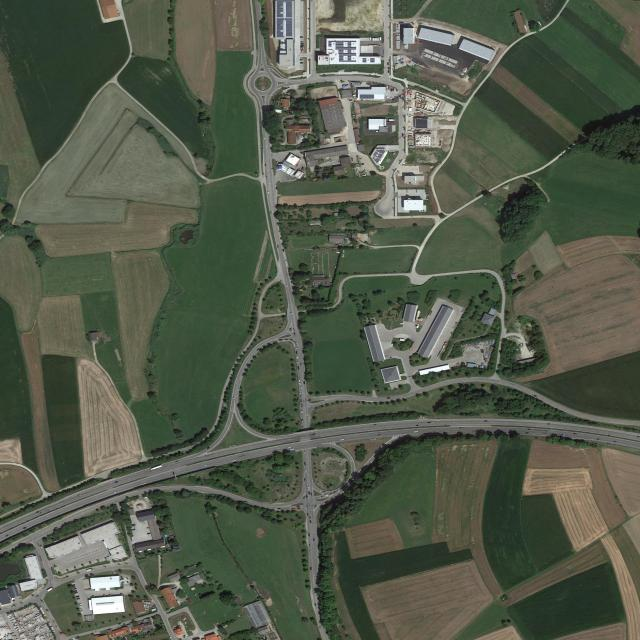large-vehicle: (150, 465, 162, 471), (39, 607, 46, 617), (442, 342, 447, 348), (50, 626, 55, 632), (47, 587, 54, 591), (437, 352, 442, 357), (144, 601, 151, 604), (389, 119, 395, 121)
small-vehicle: (40, 545, 43, 550), (5, 534, 10, 537), (333, 491, 337, 494), (324, 494, 328, 497), (310, 567, 313, 571), (147, 532, 151, 535), (23, 527, 27, 530), (113, 491, 117, 494), (114, 481, 118, 484), (50, 579, 53, 583), (71, 584, 75, 587), (534, 395, 538, 398), (290, 339, 294, 342), (262, 172, 265, 176), (231, 460, 236, 462), (528, 429, 533, 431), (319, 627, 322, 630), (78, 494, 81, 497), (36, 595, 39, 598), (149, 604, 152, 607), (295, 341, 298, 344), (257, 348, 260, 351), (295, 347, 298, 350), (296, 356, 299, 359), (282, 249, 285, 252), (262, 121, 265, 124), (263, 138, 266, 141), (296, 164, 299, 167), (299, 160, 302, 163), (270, 212, 273, 215), (320, 496, 324, 498), (308, 533, 310, 537), (233, 396, 235, 400), (300, 399, 302, 403), (301, 411, 303, 415), (341, 439, 345, 441), (288, 447, 292, 449), (290, 448, 294, 450), (304, 462, 306, 466), (308, 486, 310, 490), (146, 527, 150, 529), (131, 527, 135, 529), (54, 527, 58, 529), (39, 512, 43, 514), (11, 606, 15, 608), (150, 599, 152, 603), (76, 596, 80, 598), (74, 592, 78, 594), (73, 590, 77, 592), (73, 588, 77, 590), (72, 586, 76, 588), (402, 96, 404, 100), (396, 35, 400, 37), (358, 158, 362, 160), (614, 441, 618, 443), (597, 439, 601, 441), (574, 433, 578, 435), (484, 420, 488, 422), (427, 422, 431, 424), (414, 431, 418, 433), (378, 435, 382, 437), (361, 163, 365, 165), (279, 339, 283, 341), (300, 49, 304, 51), (298, 366, 300, 370), (330, 161, 334, 163), (292, 508, 295, 510), (337, 490, 340, 492), (330, 493, 333, 495), (278, 508, 281, 510), (319, 490, 322, 492), (245, 501, 248, 503), (309, 516, 311, 519), (313, 538, 315, 541), (309, 544, 311, 547), (309, 550, 311, 553), (300, 396, 302, 399), (301, 404, 303, 407), (306, 413, 308, 416), (312, 433, 315, 435), (304, 452, 306, 455), (315, 604, 317, 607), (132, 524, 135, 526), (94, 524, 96, 527), (170, 637, 172, 640), (207, 447, 210, 449), (175, 461, 178, 463), (36, 511, 39, 513), (79, 607, 82, 609), (55, 626, 58, 628), (77, 598, 80, 600), (308, 399, 311, 401), (300, 391, 302, 394), (390, 88, 392, 91), (402, 93, 404, 96), (402, 89, 404, 92), (387, 62, 389, 65), (300, 36, 303, 38), (301, 41, 304, 43), (439, 141, 442, 143), (439, 144, 442, 146), (374, 424, 377, 426), (300, 387, 302, 390), (287, 267, 289, 270), (286, 285, 288, 288), (291, 312, 293, 315), (294, 332, 296, 335), (296, 351, 298, 354), (297, 361, 299, 364), (300, 363, 302, 366), (277, 245, 279, 248), (280, 237, 282, 240), (300, 62, 303, 64), (269, 93, 271, 96), (303, 135, 305, 138), (266, 176, 268, 179), (276, 187, 278, 190), (267, 192, 269, 195), (306, 506, 308, 508), (301, 421, 303, 423), (132, 529, 136, 530), (305, 399, 307, 401), (391, 97, 393, 99), (387, 96, 388, 100), (300, 46, 304, 47), (370, 37, 371, 41), (402, 134, 404, 136), (473, 432, 477, 433), (460, 428, 464, 429), (300, 45, 304, 46), (285, 339, 289, 340), (299, 383, 301, 385), (297, 506, 300, 507), (298, 508, 301, 509), (307, 513, 308, 516), (310, 520, 311, 523), (323, 491, 326, 492), (302, 426, 303, 429), (305, 470, 306, 473), (204, 465, 207, 466), (80, 609, 83, 610), (79, 606, 82, 607), (388, 70, 389, 73), (388, 67, 389, 70), (301, 43, 304, 44), (562, 434, 565, 435), (526, 433, 529, 434), (416, 425, 419, 426), (301, 48, 304, 49), (299, 380, 300, 383), (304, 381, 305, 384), (286, 260, 287, 263), (301, 51, 304, 52), (300, 59, 303, 60), (302, 135, 303, 138), (311, 493, 312, 495), (309, 492, 310, 494), (304, 479, 305, 481), (403, 101, 404, 103), (393, 89, 394, 91), (265, 164, 266, 166)
